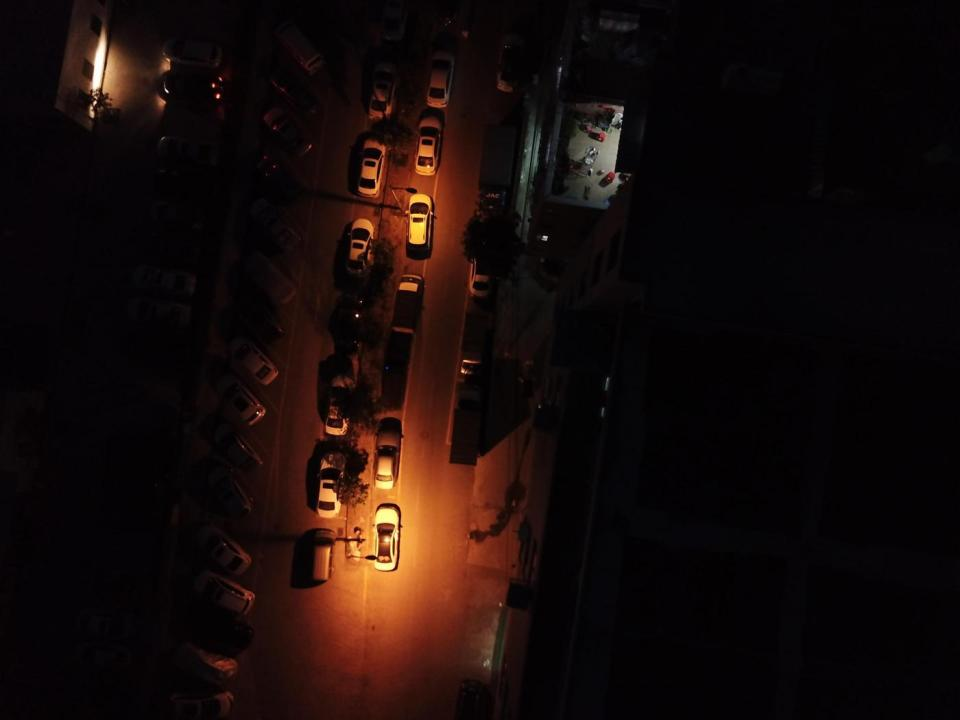car: (207, 419, 264, 478), (194, 522, 252, 577), (234, 289, 286, 347), (269, 67, 324, 121), (245, 250, 298, 305), (253, 149, 305, 205), (209, 463, 257, 523), (250, 196, 301, 252), (193, 570, 255, 616), (177, 640, 239, 686), (262, 106, 314, 160), (214, 374, 268, 426), (126, 294, 193, 333), (158, 69, 228, 106), (193, 609, 254, 651), (130, 262, 196, 298), (372, 417, 404, 489), (367, 61, 404, 121), (235, 339, 281, 387), (143, 200, 207, 234), (314, 452, 346, 518), (171, 688, 235, 720), (324, 374, 356, 437), (497, 31, 530, 92), (156, 136, 220, 167), (356, 137, 388, 198), (162, 38, 223, 70), (372, 506, 401, 572), (414, 115, 443, 176), (346, 218, 375, 278), (426, 51, 456, 109), (405, 193, 434, 252), (468, 245, 494, 299), (382, 0, 409, 39)
truck: (478, 121, 522, 218), (448, 386, 482, 466), (460, 309, 495, 376), (390, 273, 426, 335)
van: (275, 20, 327, 76), (310, 528, 336, 582)
